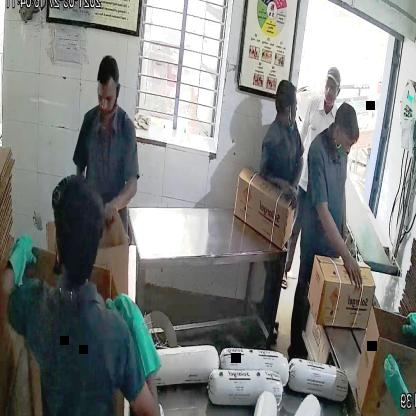no_goggles: (92, 82, 124, 107)
